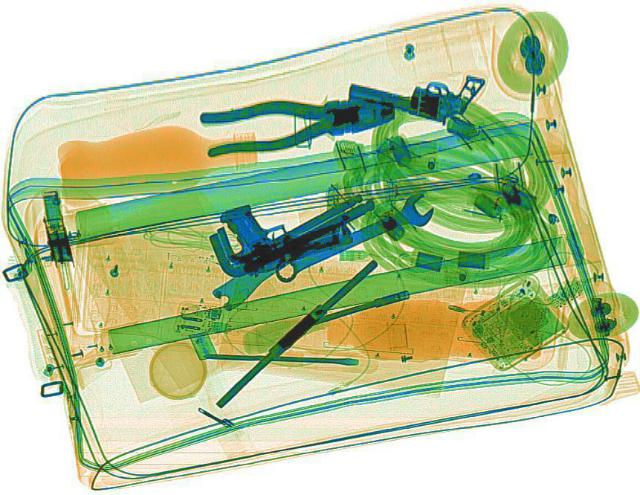Gun: (208, 179, 356, 276), (338, 44, 488, 127)
Pliers: (196, 88, 400, 156)
Wrench: (260, 189, 444, 284)
